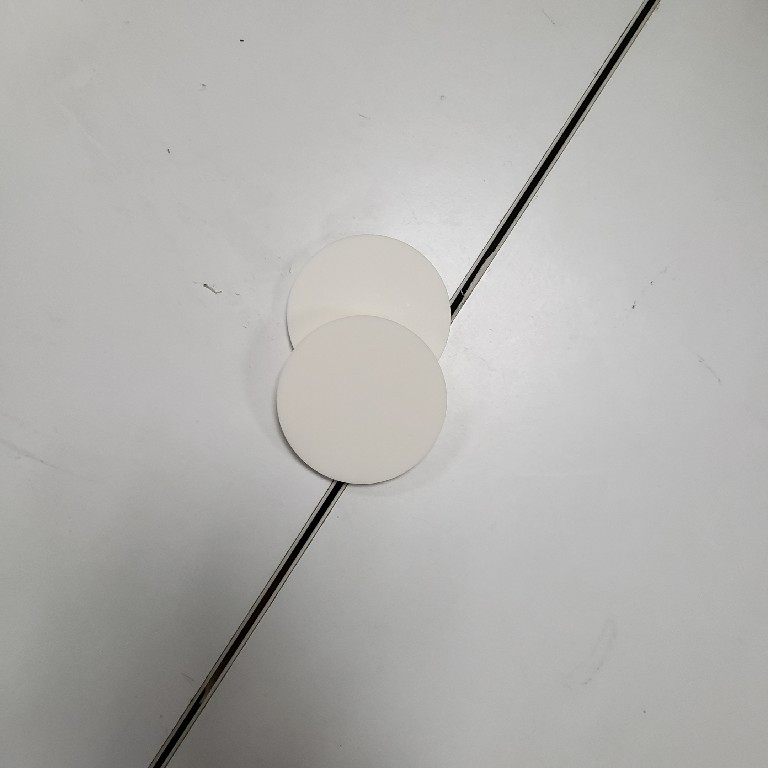ceramics: (270, 231, 453, 488)
